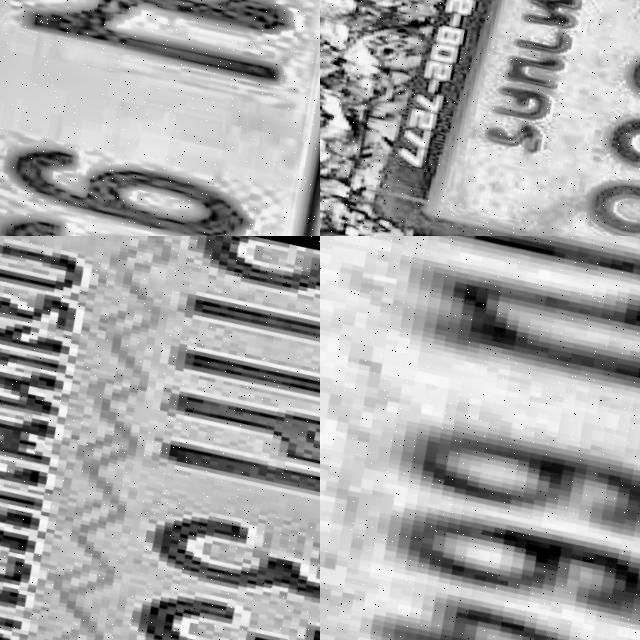license-plate: (0, 236, 320, 640), (320, 236, 640, 640), (0, 0, 320, 236), (320, 0, 640, 236)
